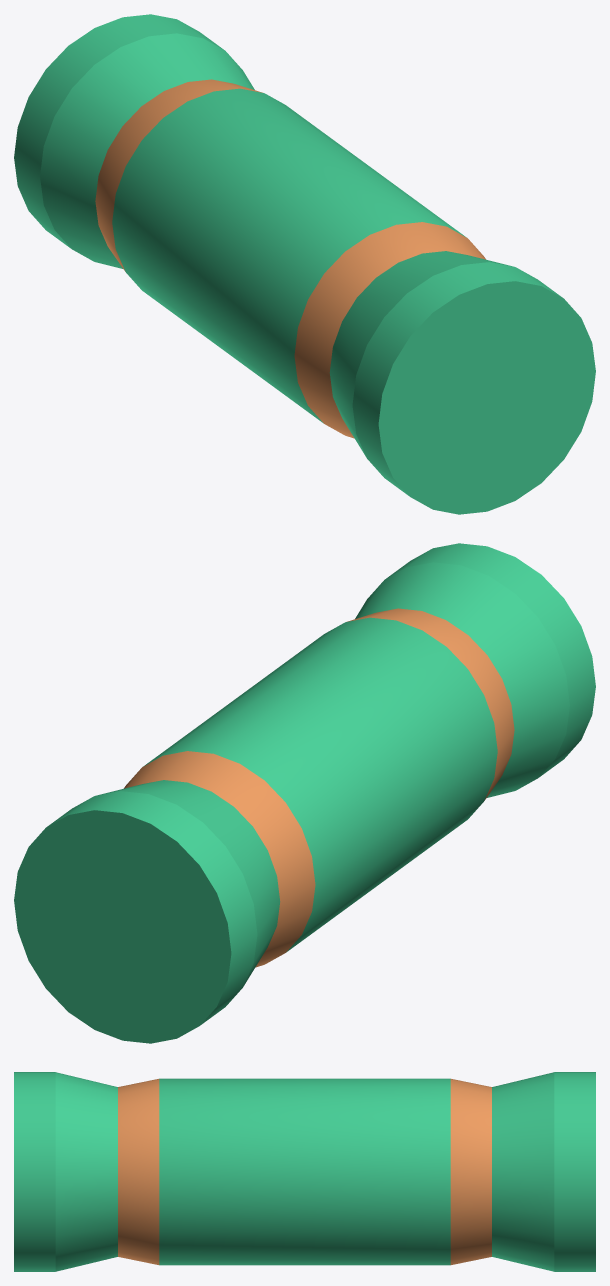
Rendered from bedrollPacked.dae.
3 views of the same model, one above another, from view 1: azimuth 30°, elevation 25°; view 2: azimuth 150°, elevation 25°; view 3: azimuth 270°, elevation 25° (orthographic). The views are drawn at different scales.
Parts seen in each view (by area): view 1: bedrollPacked; view 2: bedrollPacked; view 3: bedrollPacked.
Part boxes in pixels (x1,y1,x2,y2): bedrollPacked: [14, 14, 595, 514]; bedrollPacked: [14, 543, 595, 1043]; bedrollPacked: [14, 1072, 595, 1271].
Size of the model in its own units: 0.3587 by 0.3587 by 1.04.
